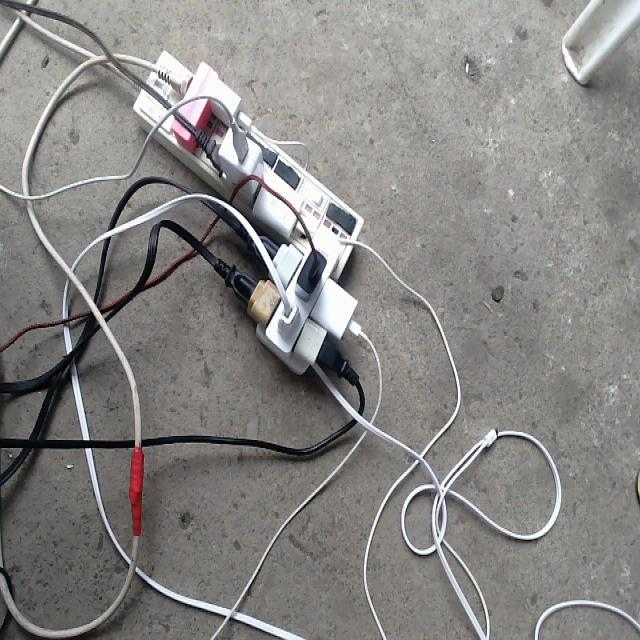-: (105, 20, 401, 407)
